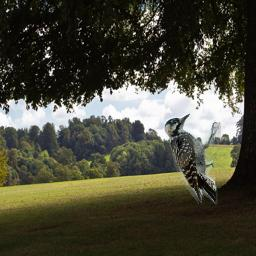Woodpecker: (163, 113, 221, 205)
